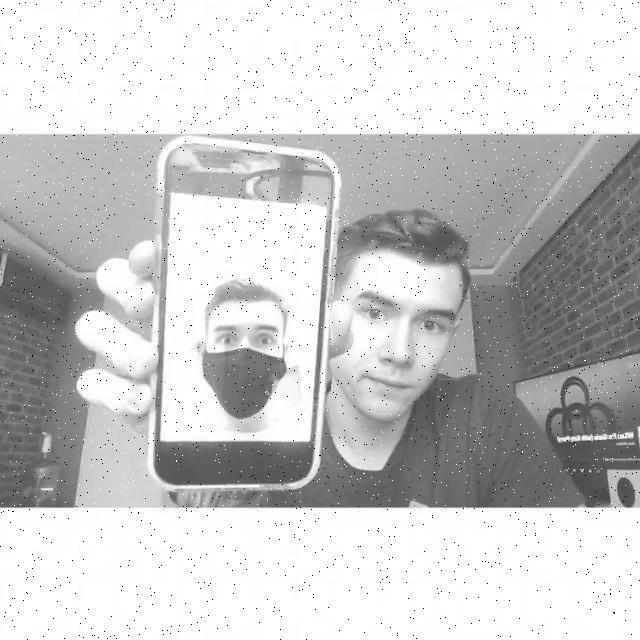fake: (137, 134, 339, 498)
real: (342, 263, 459, 425)
